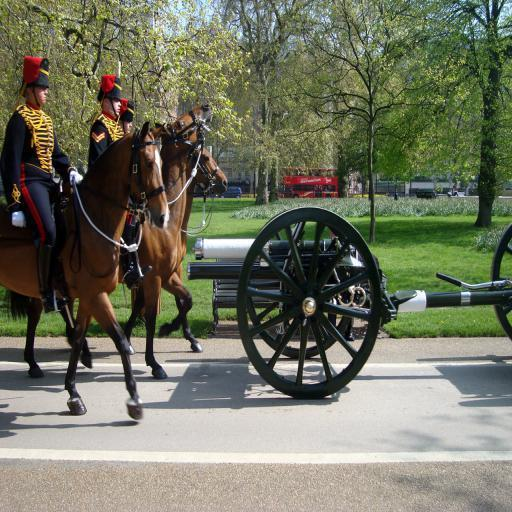horse: (0, 103, 214, 380), (68, 145, 228, 357)
